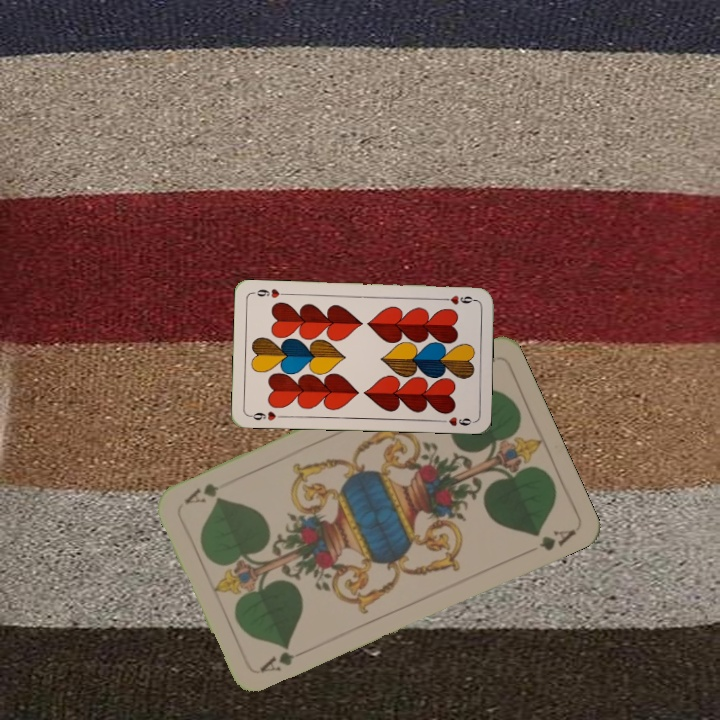GA: (256, 645, 311, 676)
H9: (246, 407, 286, 423), (438, 291, 478, 307)
